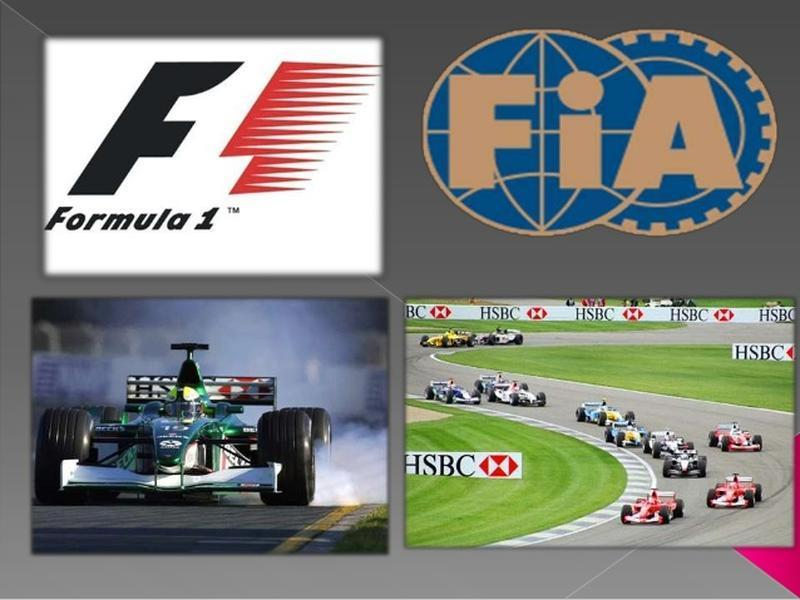f1: (37, 339, 349, 503), (484, 365, 548, 415), (616, 482, 685, 525), (703, 466, 761, 513), (572, 391, 637, 426), (708, 420, 770, 454), (659, 439, 711, 478), (425, 372, 475, 410), (597, 418, 653, 451)
